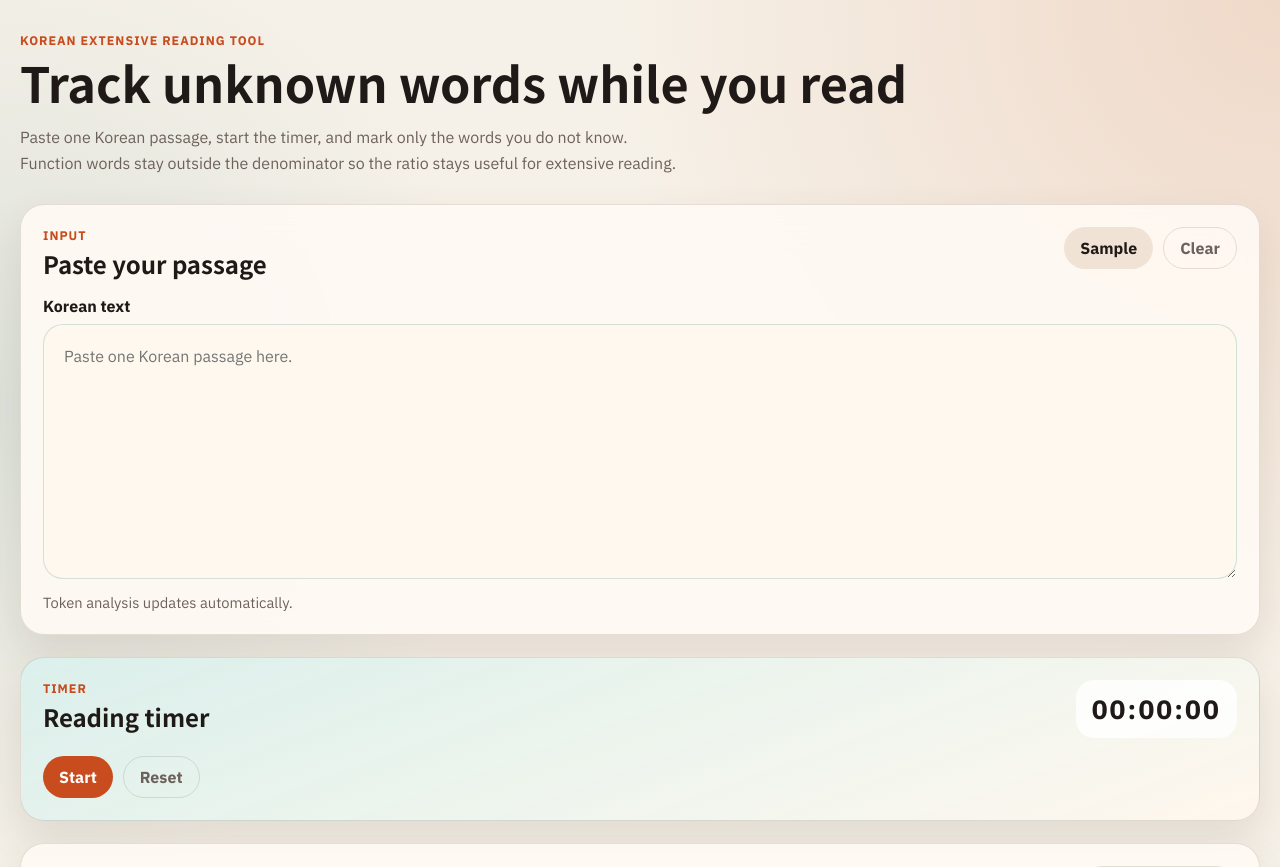
it: App › uses the same timer reset result for text updates and reset button
Step 1. Type "저는 한국어를 공부합니다." into the text box labelled "Korean text" → (640, 451), box [43, 324, 1237, 579]
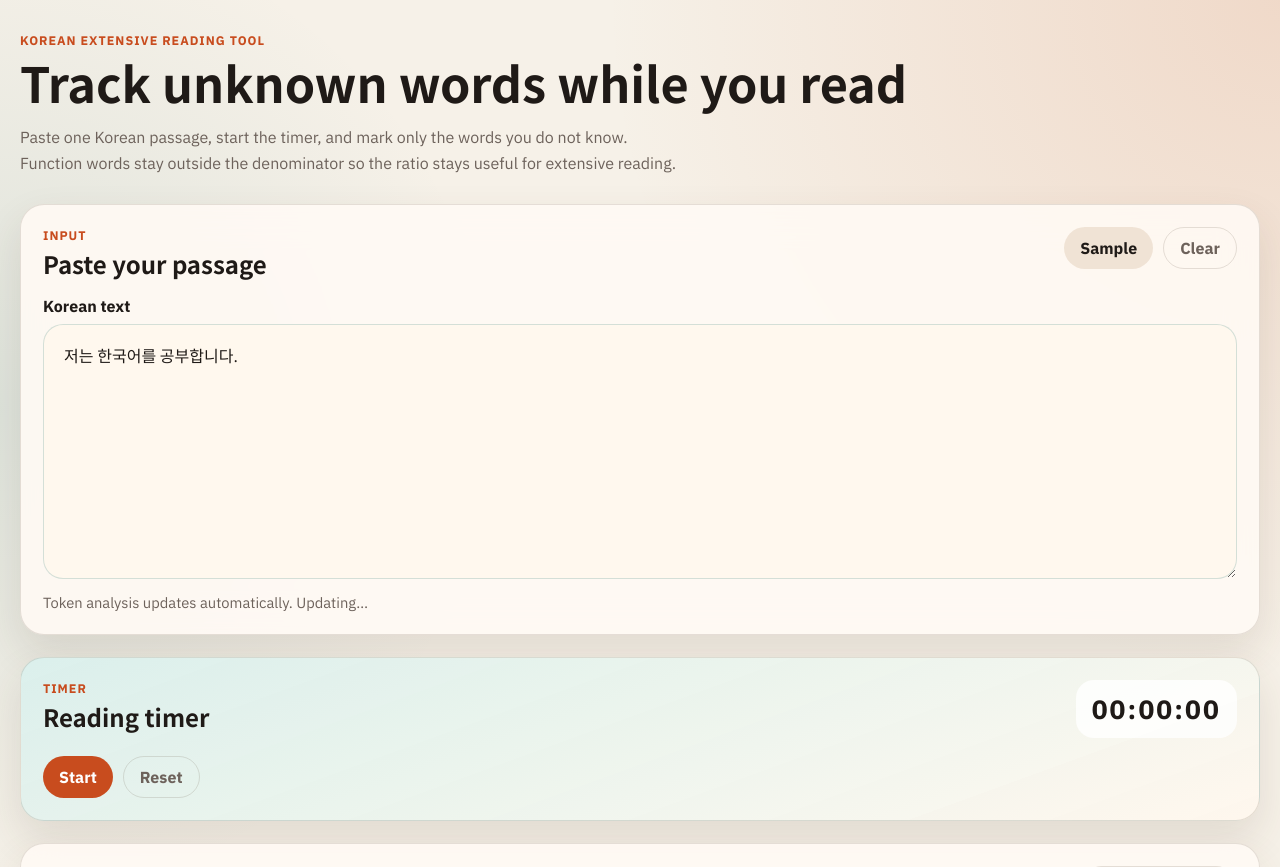
Step 2. Click the button "Start" → click(78, 777), box [43, 756, 113, 798]
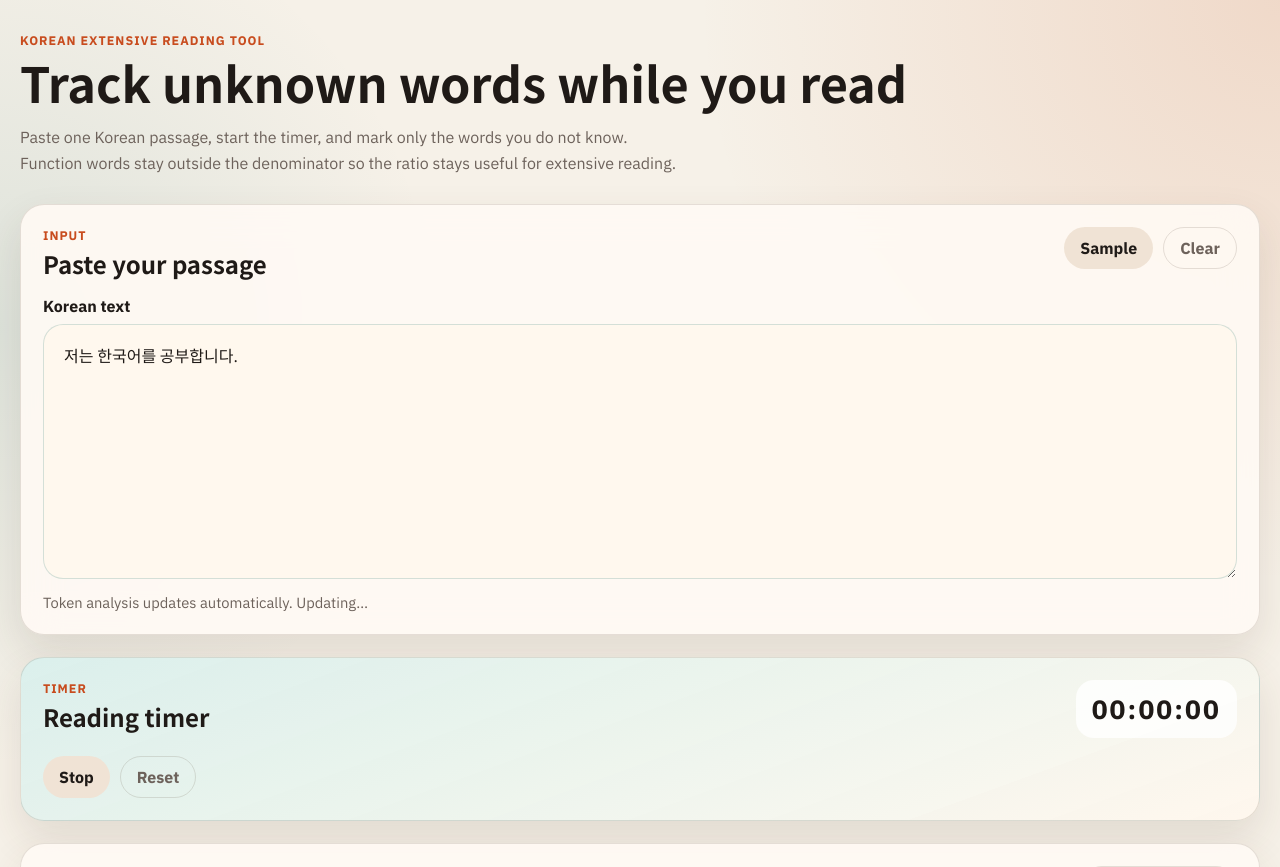
Step 3. Replace the text in the text box labelled "Korean text" with "저는 한국어를 읽습니다." → (640, 451), box [43, 324, 1237, 579]
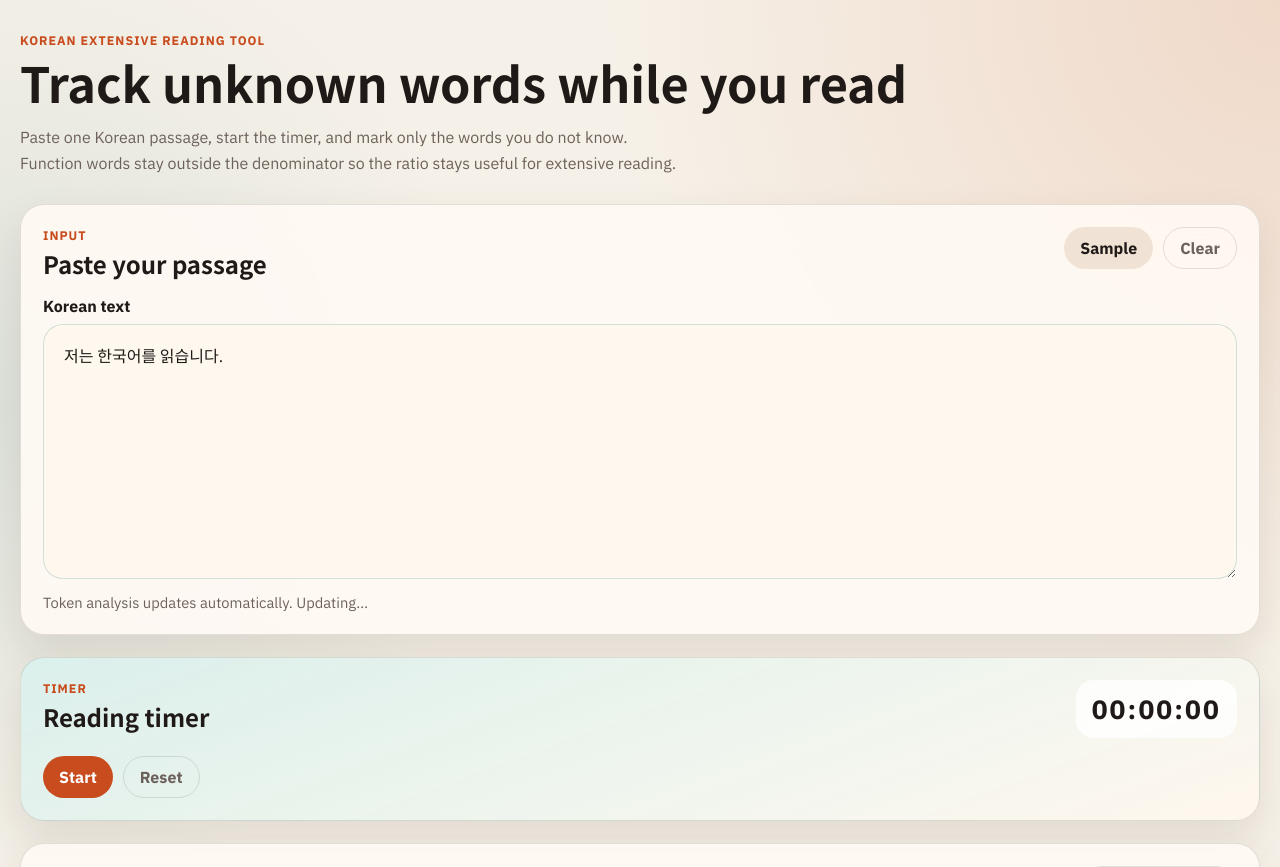
Expected: the text "00:00:00" is shown, [1076, 680, 1237, 738]
Now the button "Start" is shown
Step 4. Click the button "Start" → click(78, 777), box [43, 756, 113, 798]
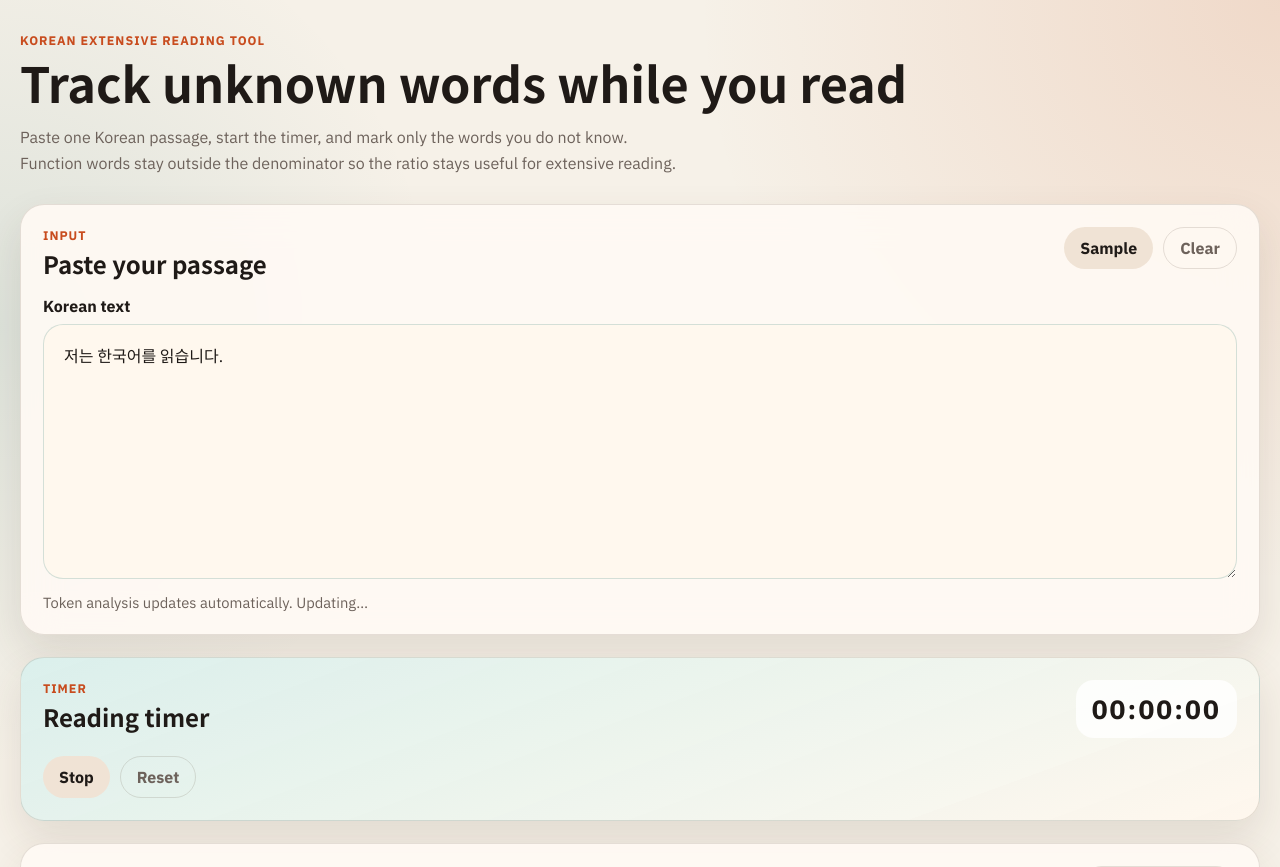
Step 5. Click the button "Reset" → click(158, 777), box [120, 756, 196, 798]
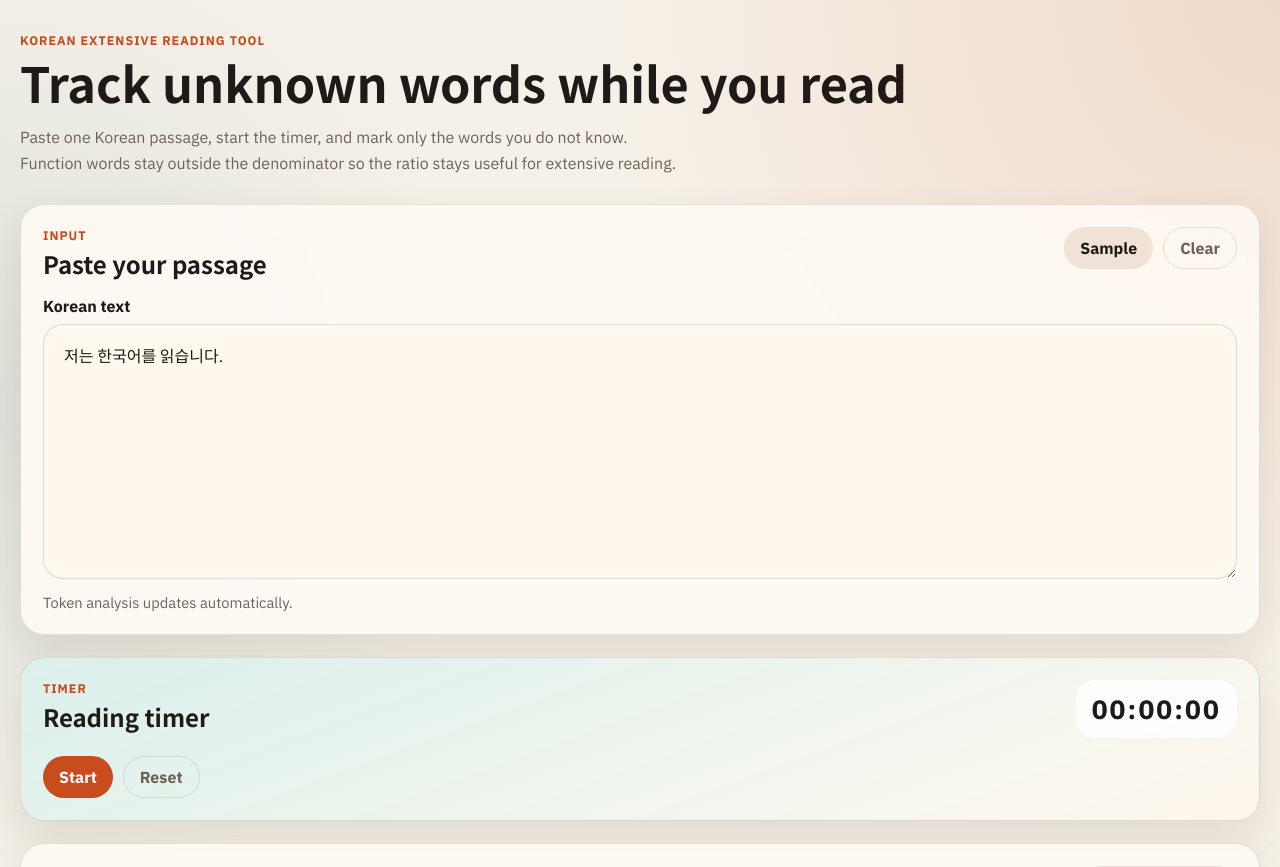
Expected: the text "00:00:00" is shown, [1076, 680, 1237, 738]
Now the button "Start" is shown, box [43, 756, 113, 798]
